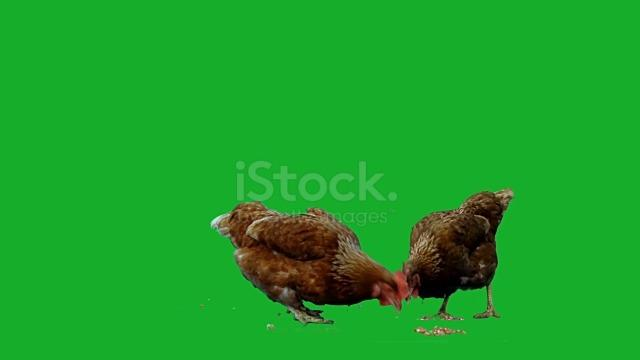Normal: (218, 200, 406, 323), (399, 186, 522, 321)
